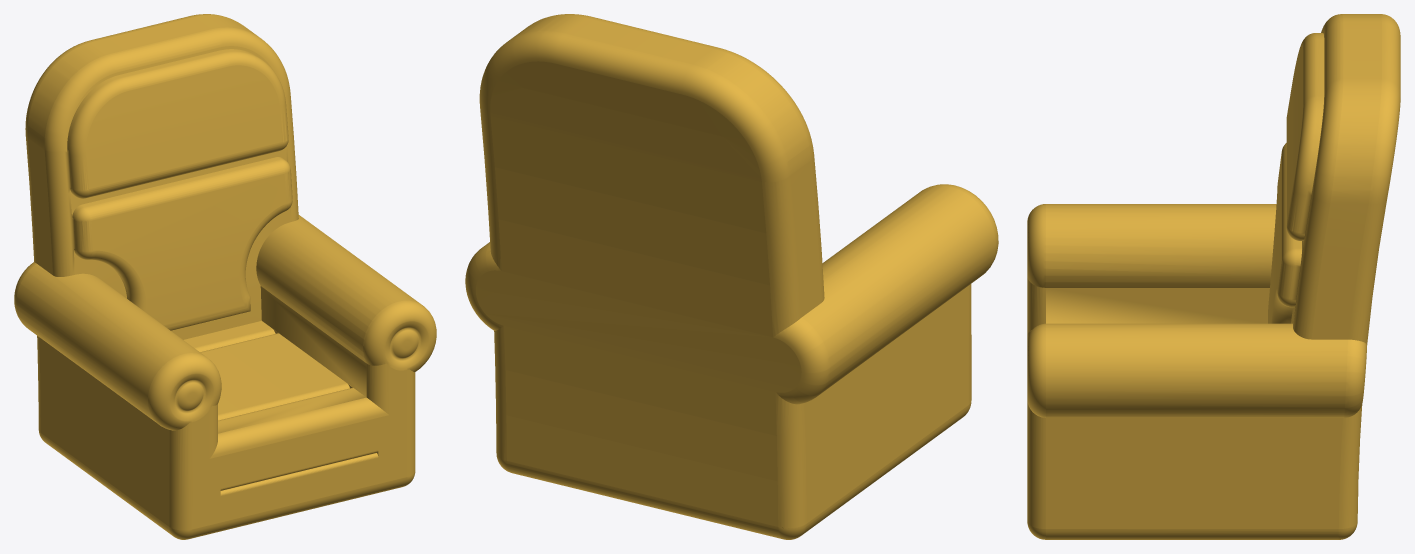
File: chair5.glb
3 views of the same model, side by side, from view 1: azimuth 30°, elevation 25°; view 2: azimuth 150°, elevation 25°; view 3: azimuth 270°, elevation 25° (orthographic). The views are drawn at different scales.
Parts seen in each view (by area): view 1: node_id56; view 2: node_id56; view 3: node_id56.
Part boxes in pixels (bbox=[...]): node_id56: bbox=[14, 14, 436, 539]; node_id56: bbox=[465, 14, 998, 539]; node_id56: bbox=[1027, 14, 1400, 539].
Bounding box in the file's own units: 0.4096 × 0.512 × 0.4052.
Materials: 1 (1 with a texture image).
